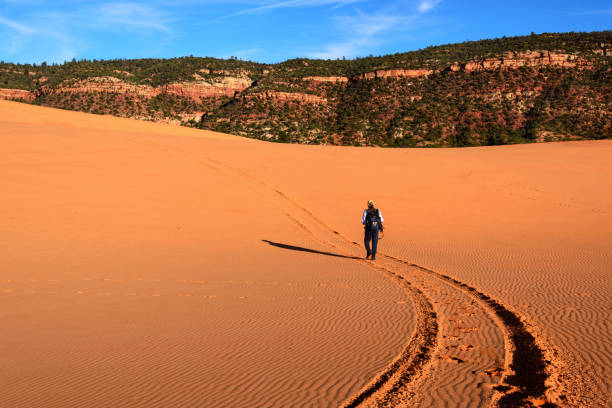vehicle_track: (379, 253, 554, 406)
